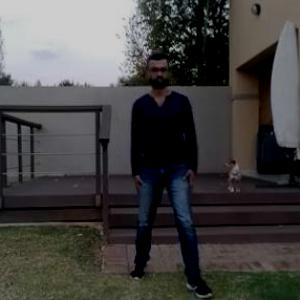follow: (129, 56, 185, 280)
